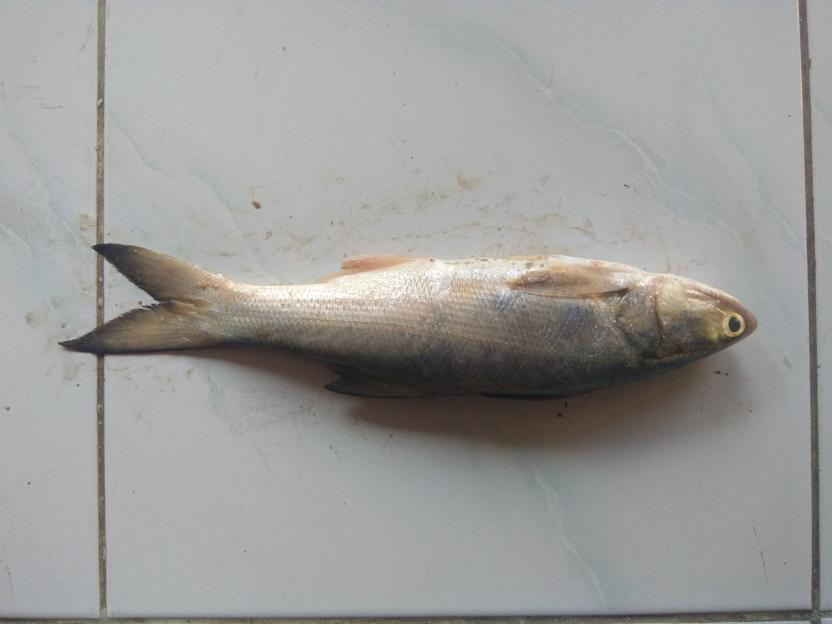Fish head: (618, 262, 761, 382)
Fish tail: (55, 241, 226, 357)
